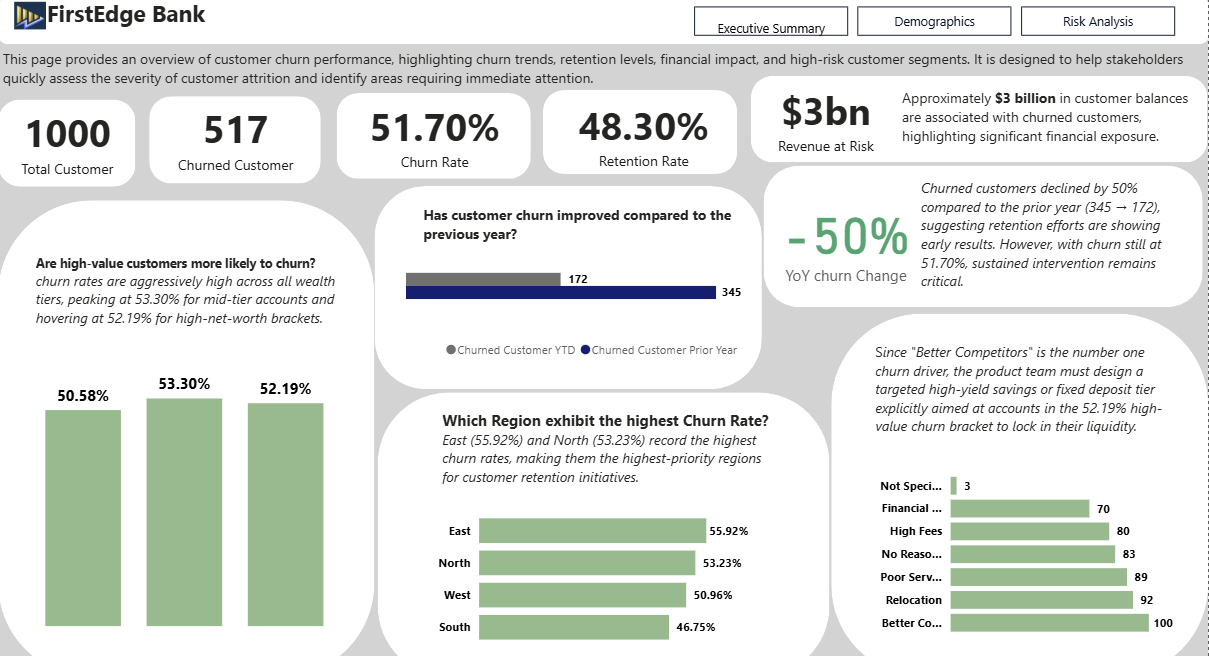

The dashboard page shown, as its layout file describes it:
{"tool":"powerbi","page":{"name":"Executive Summary","canvas":[1280,720],"ordinal":0},"visuals":[{"type":"shape","box":[0,107.9,145.6,92.5],"z":0},{"type":"shape","box":[159.3,104.5,181.5,92.5],"z":1000},{"type":"shape","box":[357.9,101,205.5,90.8],"z":2000},{"type":"shape","box":[577.1,97.6,205.5,89],"z":3000},{"type":"shape","box":[796.3,83.9,460.6,90.8],"z":4000},{"type":"shape","box":[0,234.6,399,484.6],"z":5000},{"type":"shape","box":[881.9,335.6,399,383.6],"z":6000},{"type":"shape","box":[412.7,417.8,464.1,301.4],"z":7000},{"type":"shape","box":[815,180,451.7,150],"z":8000},{"type":"shape","box":[411.7,223.3,396.7,191.7],"z":9000},{"type":"shape","box":[0,0,1280.9,58.2],"z":10000},{"type":"textbox","title":"FirstEdge Bank","box":[68.5,0,196.9,39.4],"z":11000},{"type":"pageNavigator","box":[755.2,20.5,512,30.8],"z":12000},{"type":"image","box":[0,0,68.5,39.4],"z":13000},{"type":"textbox","box":[0,58.2,1280.9,58.2],"z":14000},{"type":"card","fields":{"Values":["_Metrics.Total Customer"]},"box":[13.7,107.9,119.9,89],"z":15000},{"type":"card","fields":{"Values":["_Metrics.Churned Customer"]},"box":[167.8,106.2,166.1,83.9],"z":16000},{"type":"card","fields":{"Values":["_Metrics.Churn Rate"]},"box":[387,99.3,150.7,92.5],"z":17000},{"type":"card","fields":{"Values":["_Metrics.Revenue at Risk"]},"box":[810,83.9,131.9,90.8],"z":18000},{"type":"card","fields":{"Values":["_Metrics.Churned Growth %"]},"box":[823.3,191.7,148.3,128.3],"z":19000},{"type":"card","fields":{"Values":["_Metrics.Retention Rate"]},"box":[580.5,87.3,196.9,92.5],"z":20000},{"type":"clusteredBarChart","fields":{"Y":["_Metrics.Churned Customer YTD","_Metrics.Churned Customer Prior Year"]},"box":[433.3,255,365,150],"z":21000},{"type":"textbox","box":[443.3,240,346.7,51.7],"z":22000},{"type":"clusteredColumnChart","fields":{"Y":["_Metrics.Churn Rate"],"Category":["Dim_Customer.Balance_Tier"]},"box":[45,381.7,310,290],"z":23000},{"type":"textbox","box":[34.2,267.1,347.6,125],"z":24000},{"type":"barChart","fields":{"Y":["_Metrics.Churned Customer"],"Category":["churn_status.Churn_Reason"]},"box":[915,485,333.3,201.7],"z":25000},{"type":"clusteredBarChart","fields":{"Category":["Dim_Customer.Region "],"Y":["_Metrics.Churn Rate"]},"box":[460.6,525.7,339.1,174.7],"z":26000},{"type":"textbox","box":[465.8,431.5,363,114.7],"z":27000},{"type":"textbox","box":[933.2,83.9,315.1,90.8],"z":28000},{"type":"textbox","box":[971.7,186.7,281.7,133.3],"z":29000},{"type":"textbox","box":[923,373.3,325.4,111.3],"z":30000}]}

Visuals, with their boxes on the page's 1280x720 design canvas (x1, y1, x2, y2). These are canvas units, not pixel positions in the 1209x656 screenshot, which may show the page scaled, cropped or inside an application window:
shape: left=0, top=108, right=146, bottom=200
shape: left=159, top=104, right=341, bottom=197
shape: left=358, top=101, right=563, bottom=192
shape: left=577, top=98, right=783, bottom=187
shape: left=796, top=84, right=1257, bottom=175
shape: left=0, top=235, right=399, bottom=719
shape: left=882, top=336, right=1281, bottom=719
shape: left=413, top=418, right=877, bottom=719
shape: left=815, top=180, right=1267, bottom=330
shape: left=412, top=223, right=808, bottom=415
shape: left=0, top=0, right=1281, bottom=58
"FirstEdge Bank" textbox: left=68, top=0, right=265, bottom=39
pageNavigator: left=755, top=20, right=1267, bottom=51
image: left=0, top=0, right=68, bottom=39
textbox: left=0, top=58, right=1281, bottom=116
card - _Metrics.Total Customer: left=14, top=108, right=134, bottom=197
card - _Metrics.Churned Customer: left=168, top=106, right=334, bottom=190
card - _Metrics.Churn Rate: left=387, top=99, right=538, bottom=192
card - _Metrics.Revenue at Risk: left=810, top=84, right=942, bottom=175
card - _Metrics.Churned Growth %: left=823, top=192, right=972, bottom=320
card - _Metrics.Retention Rate: left=580, top=87, right=777, bottom=180
clusteredBarChart - _Metrics.Churned Customer YTD x _Metrics.Churned Customer Prior Year: left=433, top=255, right=798, bottom=405
textbox: left=443, top=240, right=790, bottom=292
clusteredColumnChart - _Metrics.Churn Rate x Dim_Customer.Balance_Tier: left=45, top=382, right=355, bottom=672
textbox: left=34, top=267, right=382, bottom=392
barChart - _Metrics.Churned Customer x churn_status.Churn_Reason: left=915, top=485, right=1248, bottom=687
clusteredBarChart - Dim_Customer.Region  x _Metrics.Churn Rate: left=461, top=526, right=800, bottom=700
textbox: left=466, top=432, right=829, bottom=546
textbox: left=933, top=84, right=1248, bottom=175
textbox: left=972, top=187, right=1253, bottom=320
textbox: left=923, top=373, right=1248, bottom=485
